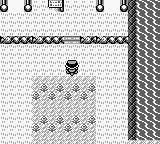captura: (136, 0, 159, 140)
leer: (49, 0, 64, 11)
main: (65, 60, 79, 75)
mo: (128, 0, 136, 139)
salto: (1, 36, 62, 43), (81, 37, 128, 43)
